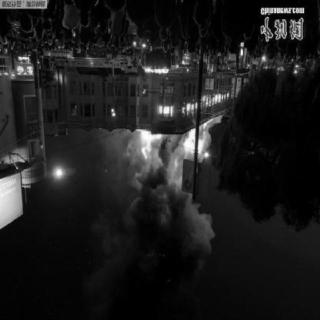Fire: (148, 92, 236, 122)
